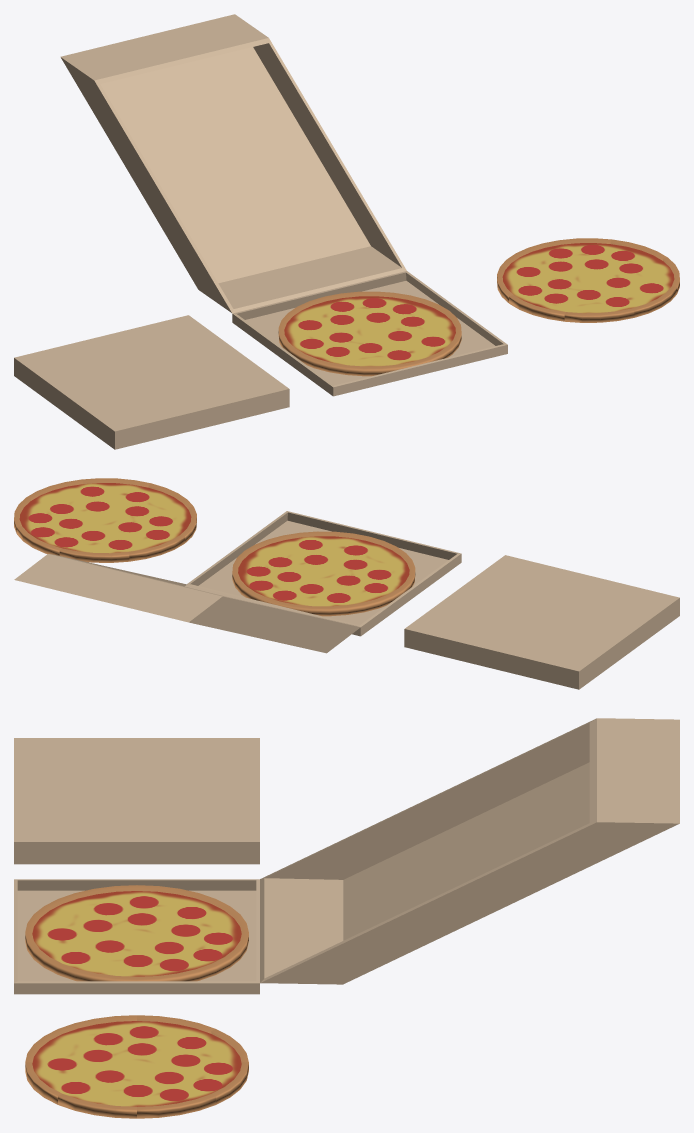
Rendered from Pizza.fbx.
3 renders of one model, top to bottom at view 1: azimuth 30°, elevation 25°; view 2: azimuth 150°, elevation 25°; view 3: azimuth 270°, elevation 25°, orthographic. The views are drawn at different scales.
Visible parts, largest first — view 1: Pizzabox(Open).001, Pizzabox(Closed), PizzaFull, Pizzabox(Open), PizzaSlice5, PizzaSlice6, PizzaSlice4, PizzaSlice1, PizzaSlice2, PizzaSlice8, PizzaSlice7, PizzaSlice3; view 2: Pizzabox(Closed), PizzaFull, Pizzabox(Open).001, Pizzabox(Open), PizzaSlice8, PizzaSlice7, PizzaSlice1, PizzaSlice4, PizzaSlice3, PizzaSlice5, PizzaSlice6, PizzaSlice2; view 3: Pizzabox(Open).001, Pizzabox(Closed), PizzaFull, Pizzabox(Open), PizzaSlice2, PizzaSlice3, PizzaSlice1, PizzaSlice4, PizzaSlice7, PizzaSlice6, PizzaSlice8, PizzaSlice5.
Part boxes in pixels (x1,y1,x2,y2): Pizzabox(Open).001: (60, 14, 406, 313); Pizzabox(Closed): (14, 315, 289, 449); PizzaFull: (278, 291, 461, 376); Pizzabox(Open): (232, 271, 507, 396); PizzaSlice5: (564, 279, 634, 322); PizzaSlice6: (509, 279, 588, 321); PizzaSlice4: (589, 279, 676, 317); PizzaSlice1: (543, 238, 611, 278); PizzaSlice2: (589, 239, 667, 278); PizzaSlice8: (500, 243, 587, 279); PizzaSlice7: (497, 267, 587, 302); PizzaSlice3: (589, 257, 679, 293); Pizzabox(Closed): (404, 555, 679, 689); PizzaFull: (232, 531, 415, 616); Pizzabox(Open).001: (14, 554, 360, 653); Pizzabox(Open): (187, 511, 461, 636); PizzaSlice8: (59, 519, 129, 562); PizzaSlice7: (106, 519, 184, 561); PizzaSlice1: (17, 519, 104, 555); PizzaSlice4: (82, 478, 150, 518); PizzaSlice3: (26, 479, 104, 518); PizzaSlice5: (106, 483, 193, 518); PizzaSlice6: (106, 507, 196, 542); PizzaSlice2: (14, 497, 104, 533); Pizzabox(Open).001: (260, 718, 679, 984); Pizzabox(Closed): (14, 738, 259, 864); PizzaFull: (25, 885, 248, 981); Pizzabox(Open): (14, 879, 259, 994); PizzaSlice2: (137, 1065, 215, 1118); PizzaSlice3: (58, 1065, 136, 1118); PizzaSlice1: (137, 1062, 248, 1104); PizzaSlice4: (25, 1062, 136, 1104); PizzaSlice7: (137, 1015, 215, 1064); PizzaSlice6: (58, 1015, 136, 1064); PizzaSlice8: (137, 1029, 248, 1065); PizzaSlice5: (25, 1029, 136, 1065).
Size of the model in its own units: 276 by 61.74 by 216.
